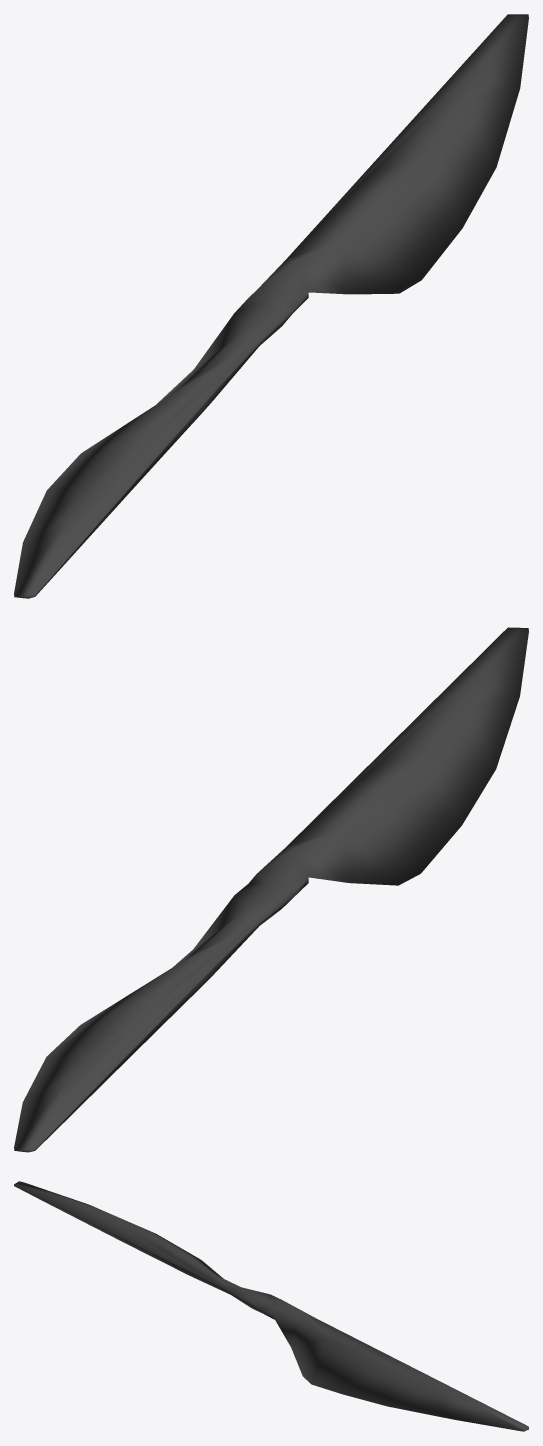
File: navi-14in-CCW-tex.dae
3 views of the same model, one above another, from view 1: azimuth 30°, elevation 25°; view 2: azimuth 210°, elevation 25°; view 3: azimuth 270°, elevation 25° (orthographic). The views are drawn at different scales.
Visible parts, largest first — view 1: 14inch_prop_low.001_15inch_prop.001; view 2: 14inch_prop_low.001_15inch_prop.001; view 3: 14inch_prop_low.001_15inch_prop.001.
Boxes of the visible parts, x1,y1,x2,y2 form: 14inch_prop_low.001_15inch_prop.001: (14, 14, 528, 598); 14inch_prop_low.001_15inch_prop.001: (14, 627, 528, 1152); 14inch_prop_low.001_15inch_prop.001: (14, 1181, 528, 1431).
Bounding box in the file's own units: 0.2833 × 0.2302 × 0.0219.
Materials: 1 (1 with a texture image).
